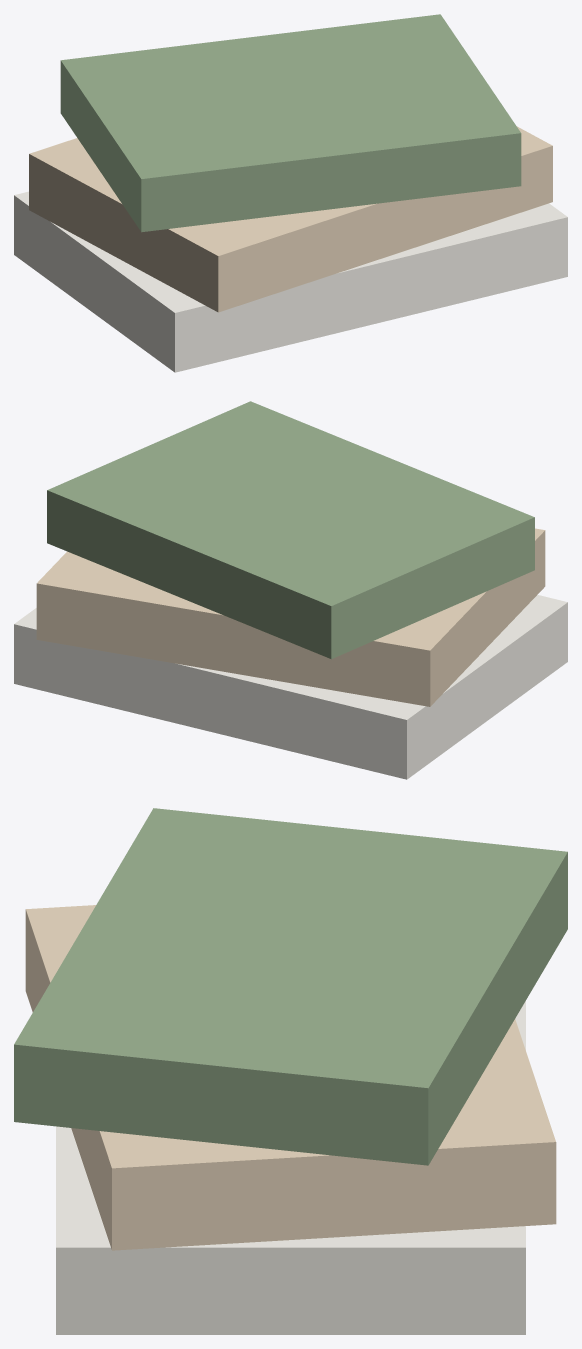
Rendered from C09-books.glb.
3 renders of one model, top to bottom at view 1: azimuth 30°, elevation 25°; view 2: azimuth 150°, elevation 25°; view 3: azimuth 270°, elevation 25°, orthographic. The views are drawn at different scales.
Visible parts, largest first — view 1: book2, book0, book1; view 2: book2, book0, book1; view 3: book2, book1, book0.
Part boxes in pixels (x1,y1,x2,y2): book2: (60,14,521,232); book0: (14,191,567,372); book1: (29,126,552,312); book2: (47,401,534,659); book0: (14,595,567,779); book1: (36,528,545,706); book2: (14,808,567,1165); book1: (25,905,556,1250); book0: (56,1001,525,1334).
Bounding box in the file's own units: 0.6328 × 0.255 × 0.5188.
